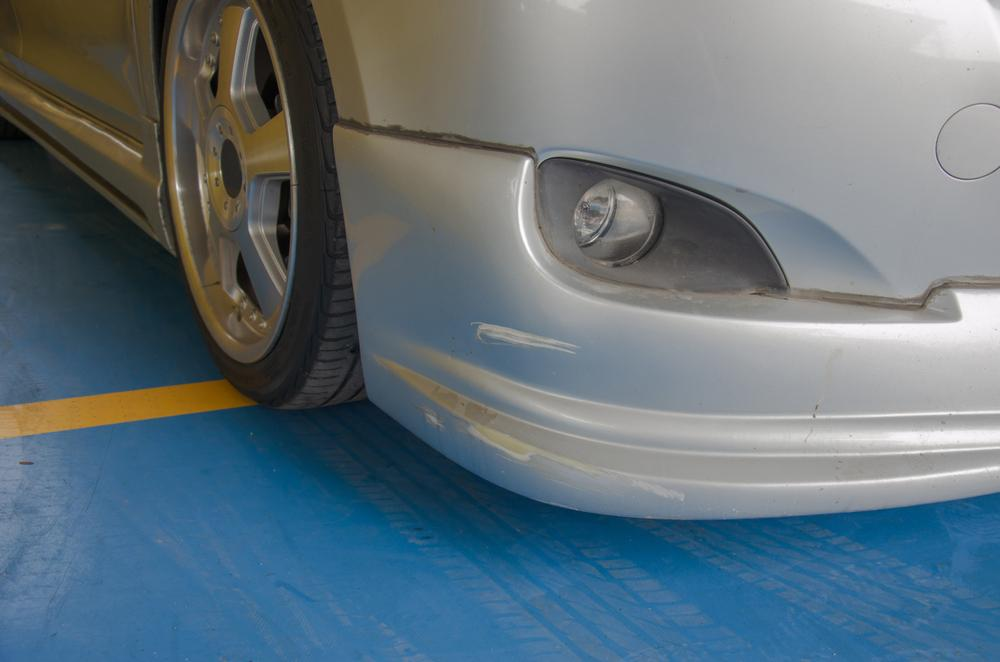scratch: (418, 400, 693, 512), (466, 314, 590, 354)
